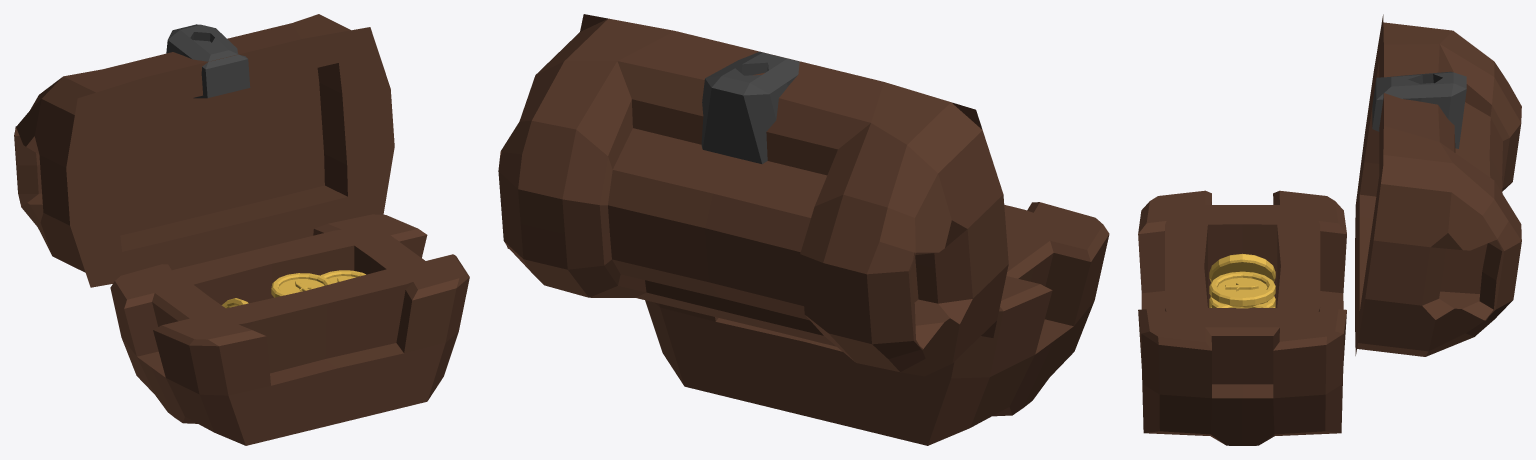
The model's file is Schatztruhe_geändert.fbx.
The picture shows the model from 3 angles, left to right: view 1: azimuth 30°, elevation 25°; view 2: azimuth 150°, elevation 25°; view 3: azimuth 270°, elevation 25°; orthographic projection. The views are drawn at different scales.
Visible parts, largest first — view 1: Truhendeckel, Truhenkörper, Schloss, Münze11.006; view 2: Truhendeckel, Truhenkörper, Schloss; view 3: Truhenkörper, Truhendeckel, Schloss, Münze11.006, Münze11.004.
Boxes of the visible parts, bbox=[...] form: Truhendeckel: bbox=[14, 14, 394, 287]; Truhenkörper: bbox=[110, 214, 469, 445]; Schloss: bbox=[166, 24, 250, 98]; Münze11.006: bbox=[271, 273, 331, 297]; Truhendeckel: bbox=[498, 14, 1008, 376]; Truhenkörper: bbox=[645, 202, 1109, 445]; Schloss: bbox=[701, 51, 799, 163]; Truhenkörper: bbox=[1138, 190, 1346, 445]; Truhendeckel: bbox=[1355, 14, 1521, 356]; Schloss: bbox=[1372, 71, 1466, 148]; Münze11.006: bbox=[1209, 271, 1275, 306]; Münze11.004: bbox=[1209, 253, 1275, 282].
Size of the model in its own units: 1.34 by 1.14 by 1.29.
